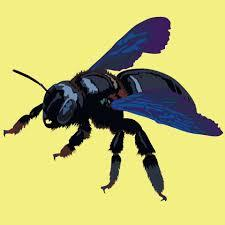Xylocopa: (11, 14, 216, 203)
